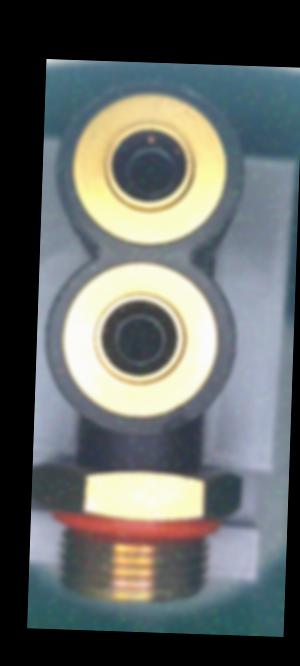bump: (155, 413, 196, 436)
